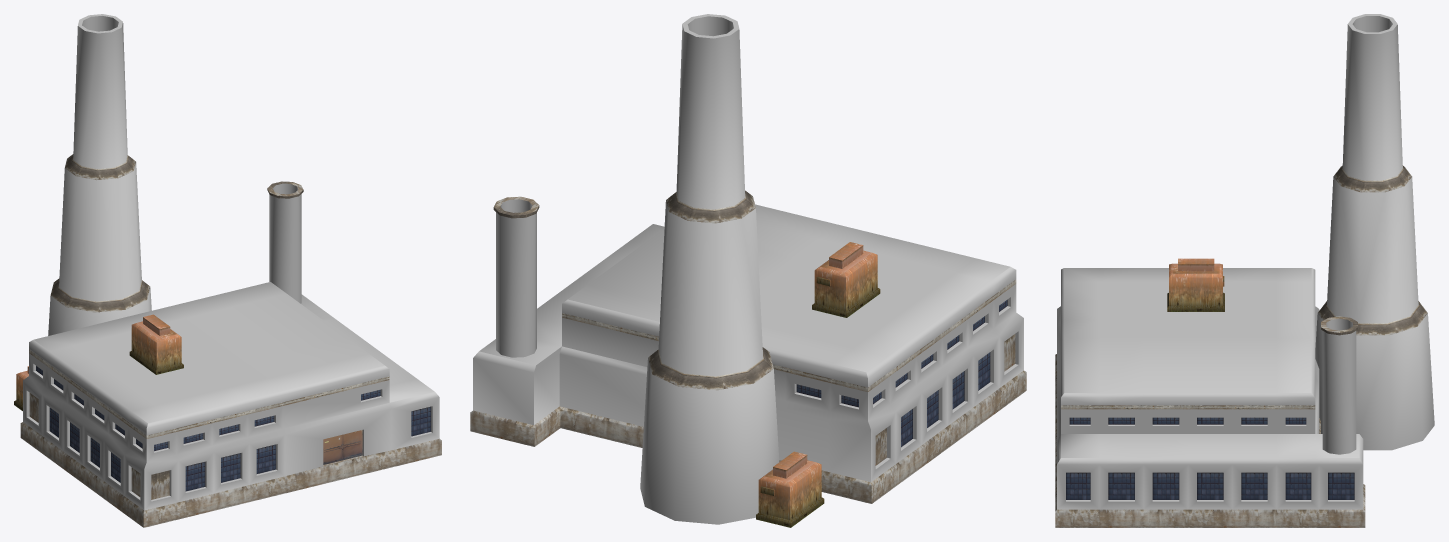
The model's file is powerplant_lod2.fbx.
3 renders of one model, left to right at view 1: azimuth 30°, elevation 25°; view 2: azimuth 150°, elevation 25°; view 3: azimuth 270°, elevation 25°, orthographic. The views are drawn at different scales.
Visible parts, largest first — view 1: Mesh Object; view 2: Mesh Object; view 3: Mesh Object.
Boxes of the visible parts, box(x1,y1,x2,y2) form: Mesh Object: box(14, 14, 441, 527); Mesh Object: box(470, 14, 1026, 527); Mesh Object: box(1055, 14, 1434, 527).
Size of the model in its own units: 27.3 by 32.5 by 27.85.
